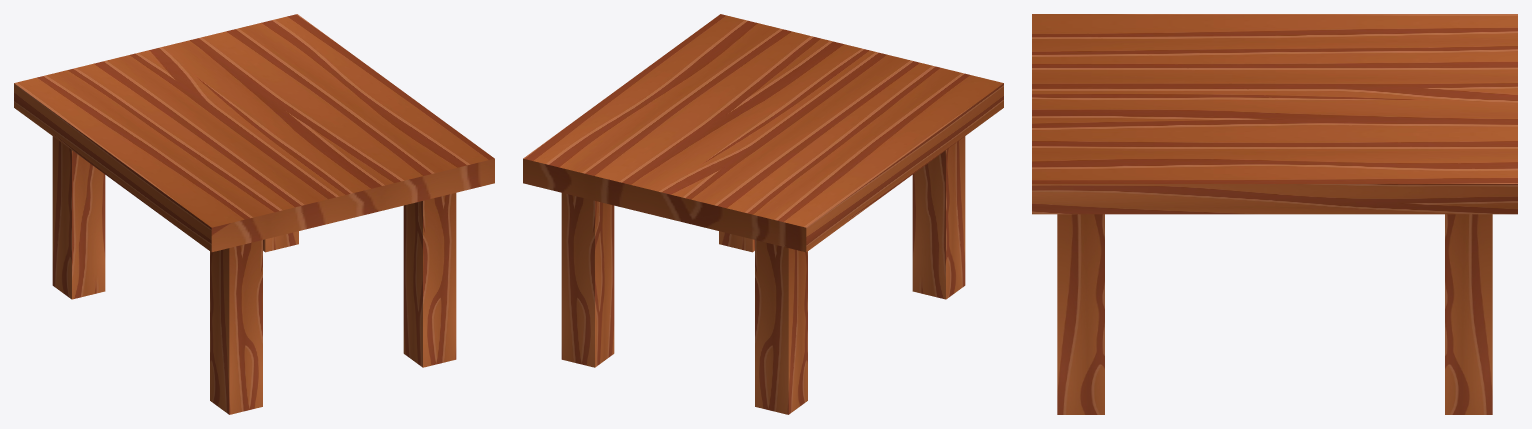
The model's file is Table.fbx.
3 views of the same model, side by side, from view 1: azimuth 30°, elevation 25°; view 2: azimuth 150°, elevation 25°; view 3: azimuth 270°, elevation 25° (orthographic). The views are drawn at different scales.
Visible parts, largest first — view 1: Table; view 2: Table; view 3: Table.
Boxes of the visible parts, x1=… form: Table: x1=14, y1=14, x2=494, y2=414; Table: x1=523, y1=14, x2=1003, y2=414; Table: x1=1032, y1=14, x2=1517, y2=414.
Size of the model in its own units: 510 by 347 by 617.
1 material, 1 textured.
